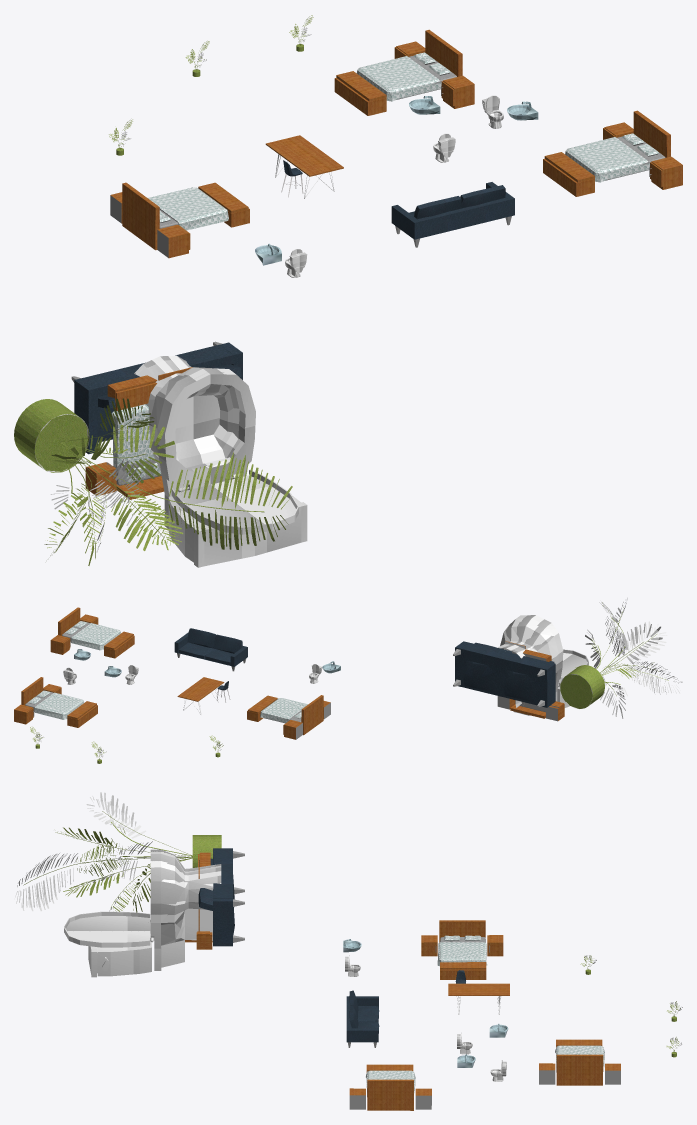
Rendered from 3BHK FLOOR PLAN2 (1) (1).gltf.
The picture shows the model from 3 angles, top to bottom: view 1: azimuth 30°, elevation 25°; view 2: azimuth 150°, elevation 25°; view 3: azimuth 270°, elevation 25°; orthographic projection. The views are drawn at different scales.
Visible parts, largest first — view 1: ID51 (×4), ID3700, ID3644, ID3692, ID133 (×3), ID527 (×2), skp6140, ID3668, ID731, skp695D, ID96 (×2), ID270 (+2 smaller); view 2: ID51 (×3), skp6140, skp695D, ID519, ID133 (×3), ID511 (×2), ID503 (×2), ID527, ID96 (×2), skp80D7, ID270, ID3700 (+2 smaller); view 3: skp6140, ID133 (×3), ID3700, ID51 (×3), ID3652, ID479, ID527, ID270, skp695D, skp80D7.
Boxes of the visible parts, x1,y1,x2,y2 form: ID51 (×4): [111, 56, 647, 466]; ID3700: [171, 469, 298, 534]; ID3644: [175, 384, 239, 467]; ID3692: [162, 372, 255, 490]; ID133 (×3): [122, 29, 670, 250]; ID527 (×2): [84, 197, 508, 396]; skp6140: [134, 355, 247, 528]; ID3668: [194, 502, 307, 567]; ID731: [34, 414, 87, 471]; skp695D: [14, 399, 89, 472]; ID96 (×2): [334, 78, 594, 196]; ID270: [265, 135, 343, 176]; ID51 (×3): [34, 623, 307, 719]; skp6140: [497, 616, 561, 715]; skp695D: [560, 665, 604, 709]; ID519: [460, 649, 541, 705]; ID133 (×3): [21, 607, 323, 735]; ID511 (×2): [179, 642, 535, 701]; ID503 (×2): [205, 649, 494, 692]; ID527: [461, 642, 549, 668]; ID96 (×2): [67, 635, 134, 727]; skp80D7: [541, 662, 555, 707]; ID270: [177, 677, 224, 701]; ID3700: [558, 649, 588, 686]; skp6140: [154, 849, 221, 970]; ID133 (×3): [367, 920, 603, 1110]; ID3700: [64, 911, 150, 947]; ID51 (×3): [366, 942, 604, 1092]; ID3652: [97, 919, 151, 976]; ID479: [213, 898, 232, 946]; ID527: [213, 851, 232, 898]; ID270: [448, 983, 509, 995]; skp695D: [192, 835, 221, 867]; skp80D7: [346, 1028, 378, 1042].
Bounding box in the file's own units: 21.56 × 4.55 × 21.69.
Materials: 888 (476 with a texture image).
